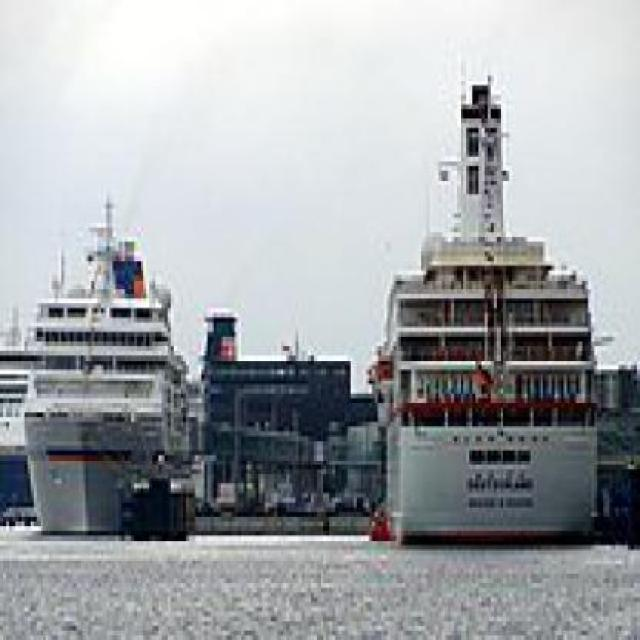cruise: (360, 53, 611, 566), (16, 176, 209, 547)
